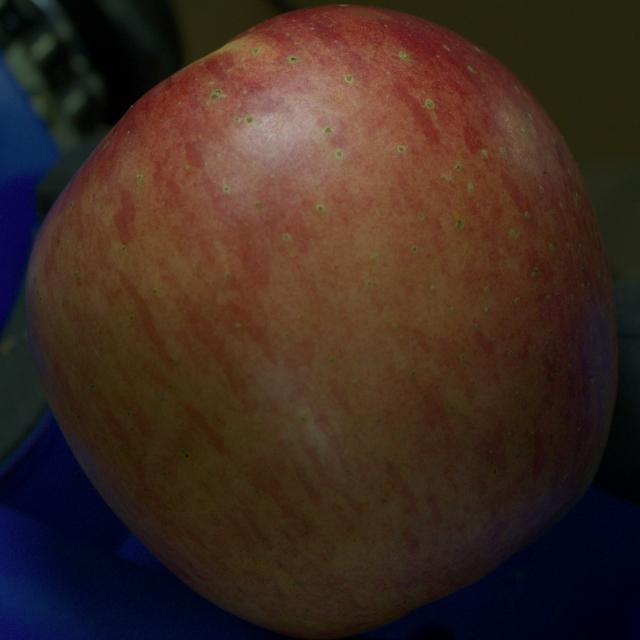apple: (25, 5, 618, 638)
